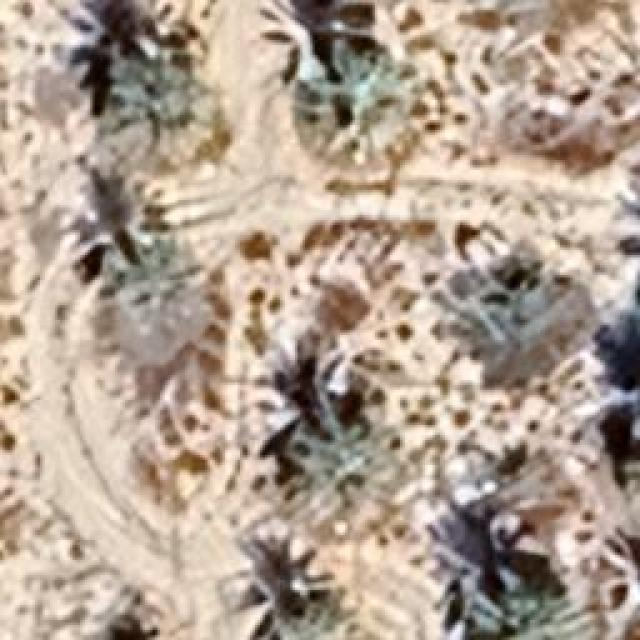PalmTree: (288, 32, 414, 156), (279, 374, 389, 508), (250, 540, 378, 640), (454, 251, 562, 364), (457, 443, 575, 538), (108, 114, 155, 300), (62, 178, 168, 260), (450, 584, 572, 638), (264, 0, 368, 53), (592, 530, 640, 634), (80, 610, 170, 640), (127, 98, 161, 114)
